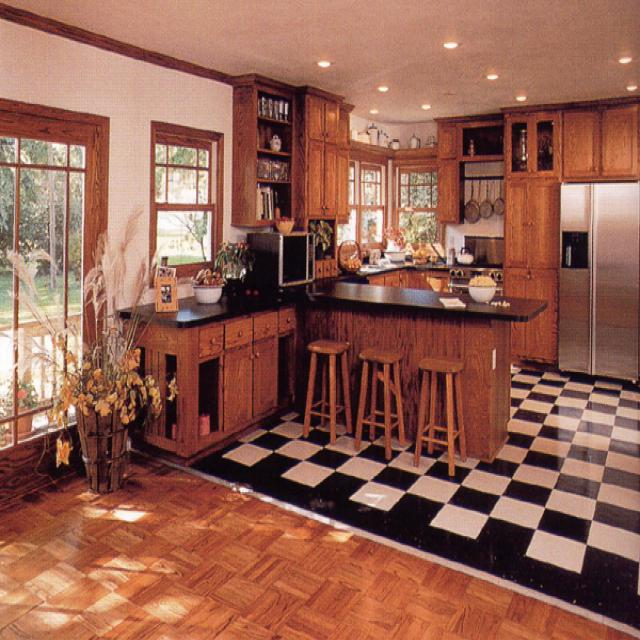2001: (155, 130, 217, 269)
bowl -X: (469, 275, 496, 300)
chair -occluded-: (414, 353, 464, 472), (351, 343, 400, 454), (305, 332, 345, 439)
counter: (124, 277, 544, 321)
cupboard crop: (307, 97, 338, 215)
floor -X: (1, 448, 638, 639), (188, 365, 639, 621)
fridge crop: (556, 179, 638, 379)
microwave oven: (243, 230, 314, 284)
pan: (462, 180, 478, 224)
